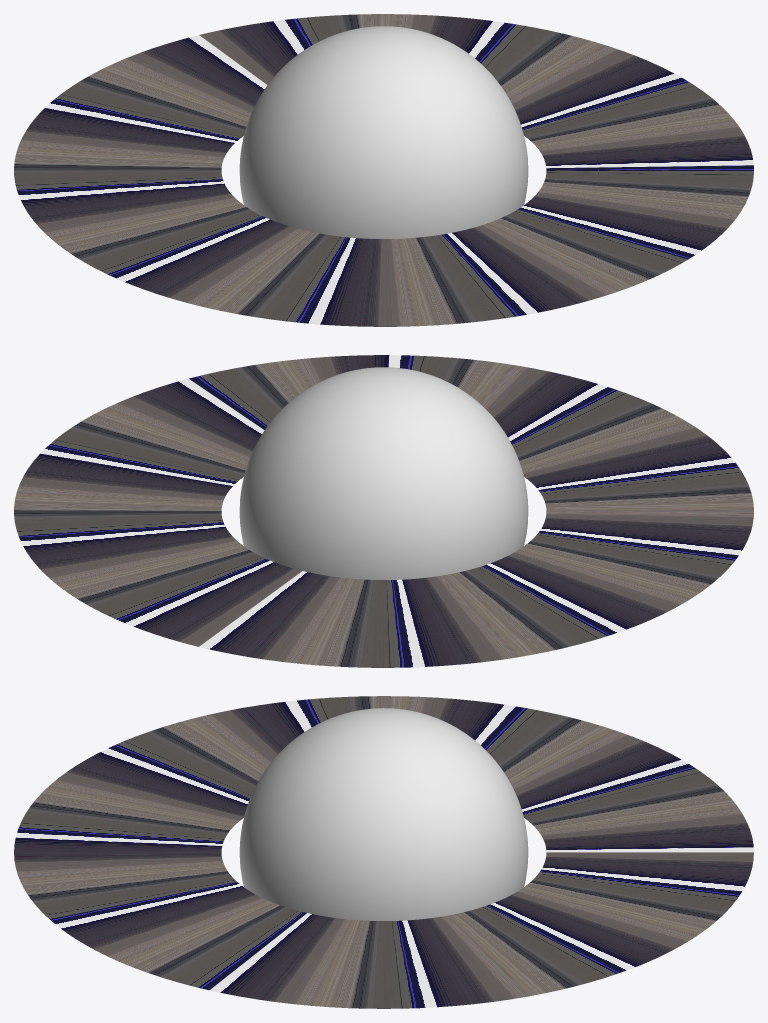
The model's file is saturn.fbx.
The picture shows the model from 3 angles, top to bottom: view 1: azimuth 30°, elevation 25°; view 2: azimuth 150°, elevation 25°; view 3: azimuth 270°, elevation 25°; orthographic projection.
Parts seen in each view (by area): view 1: Ring, Atmos; view 2: Ring, Atmos; view 3: Ring, Atmos.
Boxes of the visible parts, x1,y1,x2,y2 form: Ring: (14, 14, 753, 326); Atmos: (239, 26, 528, 238); Ring: (14, 355, 753, 667); Atmos: (239, 367, 528, 579); Ring: (14, 696, 753, 1008); Atmos: (239, 708, 528, 920).
Size of the model in its own units: 867 by 338 by 867.
3 materials, 1 textured.
